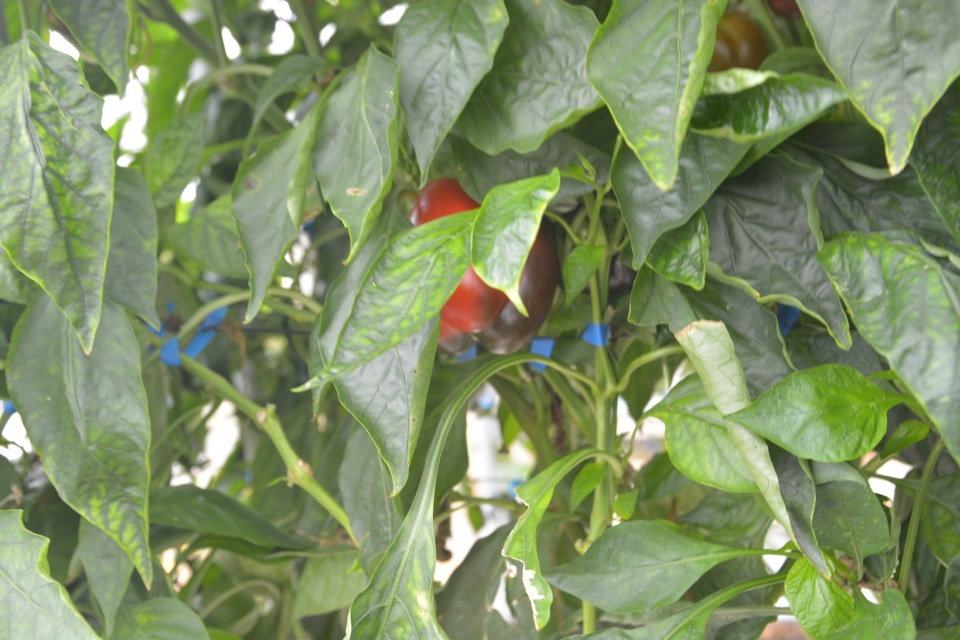fruit: (410, 175, 559, 362), (703, 10, 766, 71)
